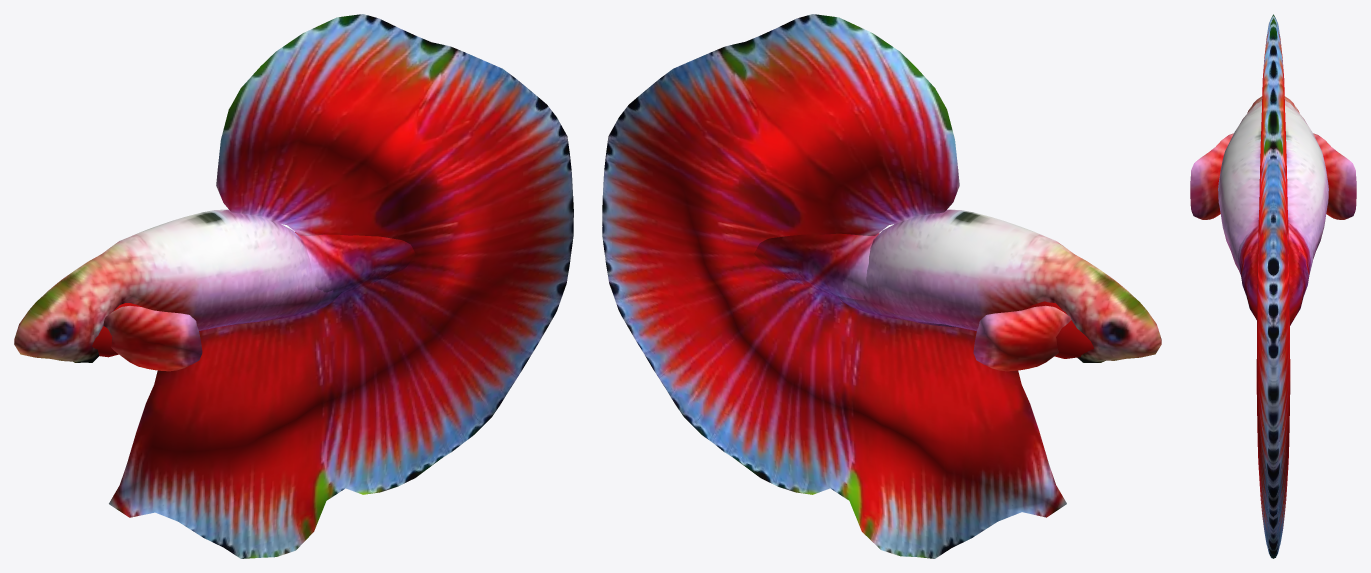
The model's file is betta_fish.glb.
The picture shows the model from 3 angles, left to right: view 1: azimuth 30°, elevation 25°; view 2: azimuth 150°, elevation 25°; view 3: azimuth 270°, elevation 25°; orthographic projection. The views are drawn at different scales.
Parts seen in each view (by area): view 1: Object_2; view 2: Object_2; view 3: Object_2.
Boxes of the visible parts, <box> form: Object_2: <box>14,14,573,558</box>; Object_2: <box>602,14,1161,558</box>; Object_2: <box>1190,14,1356,558</box>.
Bounding box in the file's own units: 0.346 × 0.3098 × 0.0864.
Materials: 1 (1 with a texture image).
